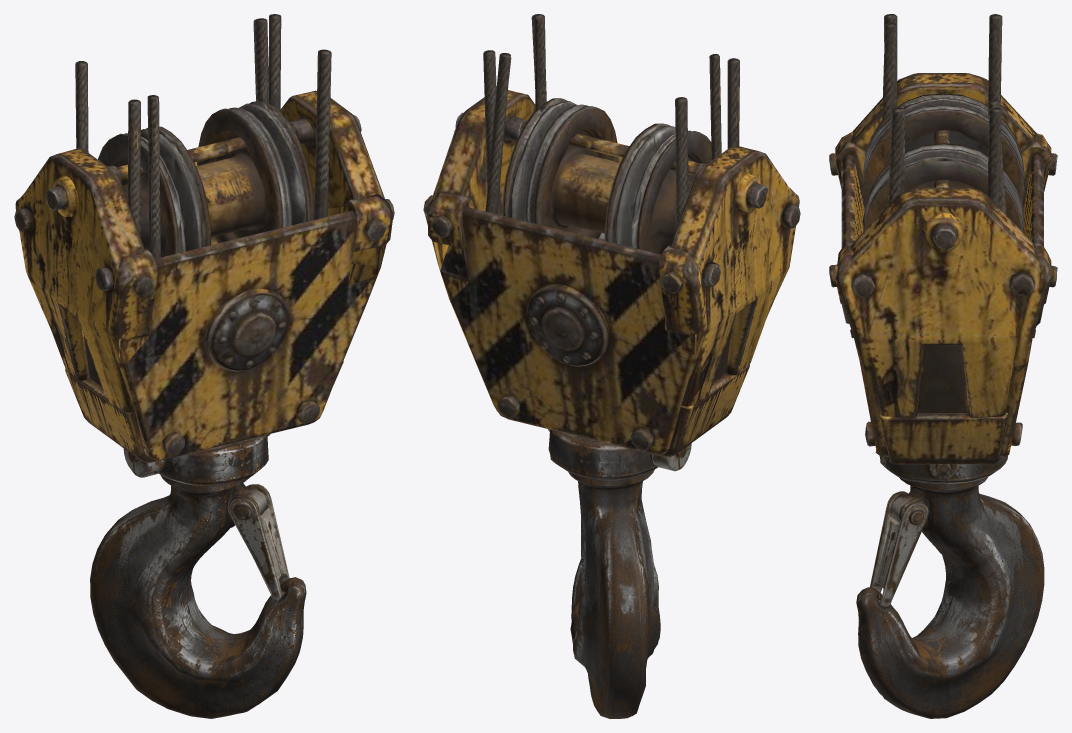
File: reactor-crane-hook.glb
The picture shows the model from 3 angles, left to right: view 1: azimuth 30°, elevation 25°; view 2: azimuth 150°, elevation 25°; view 3: azimuth 270°, elevation 25°; orthographic projection.
Parts seen in each view (by area): view 1: reactor-crane-hook; view 2: reactor-crane-hook; view 3: reactor-crane-hook.
Part boxes in pixels (x1,y1,x2,y2): reactor-crane-hook: [14, 14, 394, 718]; reactor-crane-hook: [423, 14, 800, 718]; reactor-crane-hook: [829, 14, 1057, 718].
Bounding box in the file's own units: 1.08 × 2.2 × 0.6991.
1 material, 1 textured.
